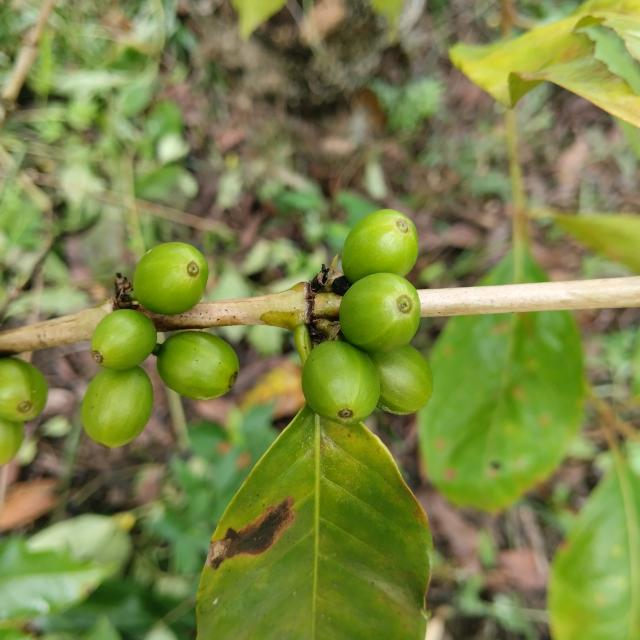green: (339, 272, 421, 353), (302, 341, 381, 425), (81, 366, 153, 449), (156, 331, 239, 400), (342, 209, 419, 283), (133, 242, 208, 315), (369, 344, 433, 415), (90, 309, 156, 370), (0, 358, 47, 422)
